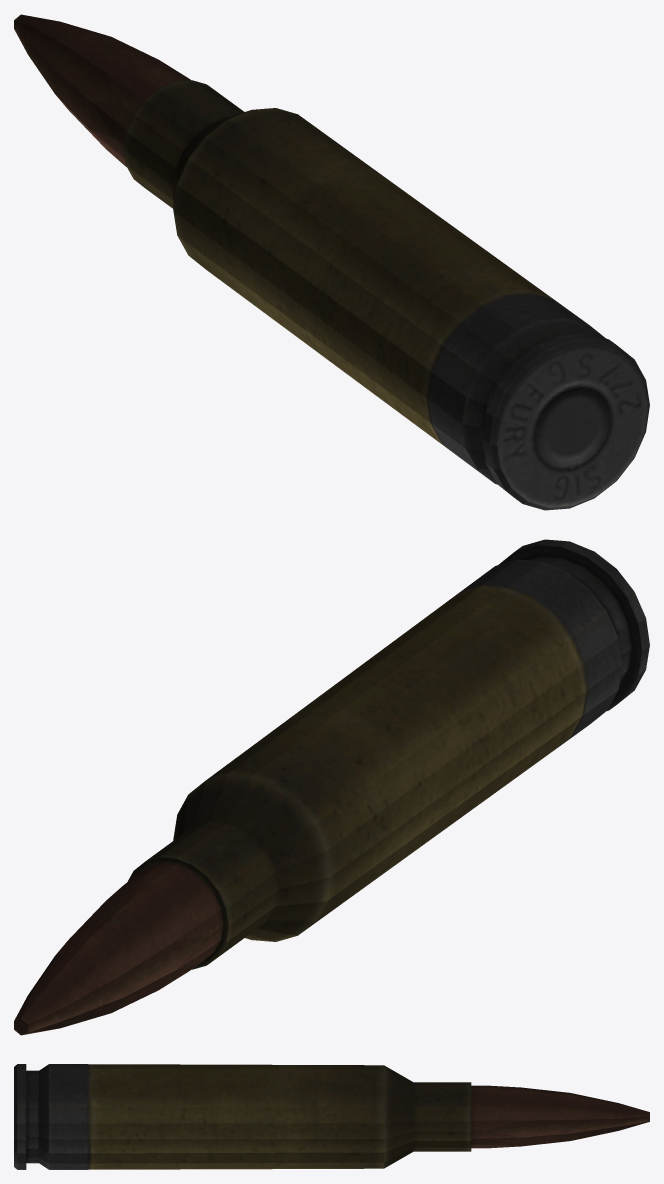
The picture shows the model from 3 angles, top to bottom: view 1: azimuth 30°, elevation 25°; view 2: azimuth 150°, elevation 25°; view 3: azimuth 270°, elevation 25°; orthographic projection. The views are drawn at different scales.
Parts seen in each view (by area): view 1: TW_6529243824cbe3c74a05e5c1_PZ_Import; view 2: TW_6529243824cbe3c74a05e5c1_PZ_Import; view 3: TW_6529243824cbe3c74a05e5c1_PZ_Import.
Boxes of the visible parts, <box> form: TW_6529243824cbe3c74a05e5c1_PZ_Import: <box>14,14,649,510</box>; TW_6529243824cbe3c74a05e5c1_PZ_Import: <box>14,539,649,1035</box>; TW_6529243824cbe3c74a05e5c1_PZ_Import: <box>14,1064,649,1169</box>.
Size of the model in its own units: 0.00691 by 0.0412 by 0.00691.
Materials: 1 (1 with a texture image).
